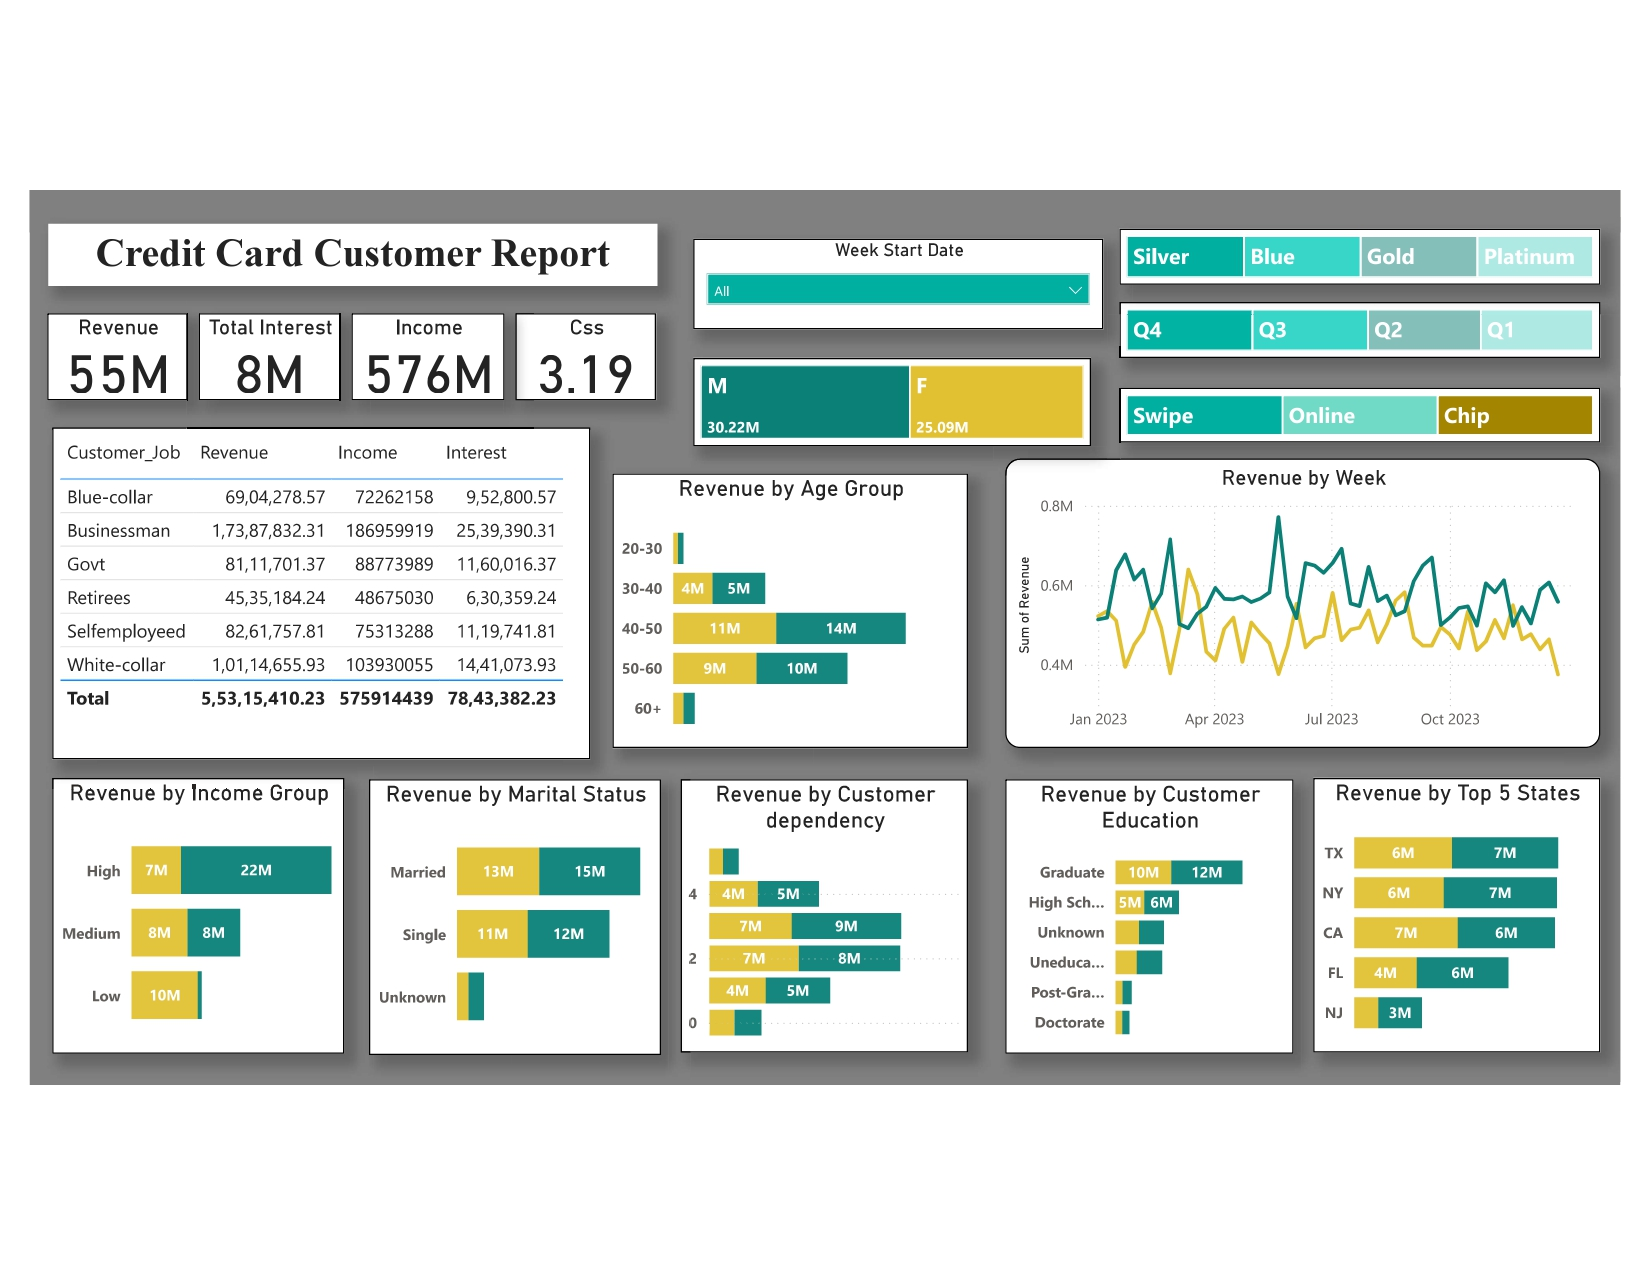

What the dashboard file says about the page in this screenshot:
{"tool":"powerbi","page":{"name":"credit card customer report","canvas":[1280,720],"ordinal":1},"visuals":[{"type":"textbox","box":[15,26.7,490,50],"z":0},{"type":"barChart","title":"Revenue by Income Group","fields":{"Y":["Sum(credit_card.Revenue)"],"Category":["customer.IncomeGroup"],"Series":["customer.Gender"]},"box":[18.1,472.9,235.3,222],"z":1000},{"type":"tableEx","fields":{"Values":["customer.Customer_Job","Sum(credit_card.Revenue)","Sum(customer.Income)","Sum(credit_card.Interest_Earned)"]},"box":[18.1,190.6,433.1,267.8],"z":2000},{"type":"card","title":"Revenue","fields":{"Values":["Sum(credit_card.Revenue)"]},"box":[14.5,98.9,112.2,70],"z":3000},{"type":"card","title":"Total Interest","fields":{"Values":["Sum(credit_card.Interest_Earned)"]},"box":[136.3,98.9,113.4,70],"z":4000},{"type":"card","title":"Css","fields":{"Values":["Avg(customer.Cust_Satisfaction_Score)"]},"box":[390.9,98.9,113.4,70],"z":5000},{"type":"card","title":"Income","fields":{"Values":["Sum(customer.Income)"]},"box":[259.4,98.9,123.1,70],"z":6000},{"type":"slicer","title":"Week Start Date","fields":{"Values":["credit_card.Week_Start_Date"]},"box":[534.5,38.6,329.4,73.6],"z":7000},{"type":"treemap","fields":{"Group":["credit_card.Qtr"],"Values":["Avg(credit_card.Client_Num)"]},"box":[877.1,90.5,387.3,44.6],"z":8000},{"type":"treemap","fields":{"Values":["Avg(credit_card.Client_Num)"],"Group":["credit_card.Use Chip"]},"box":[877.1,159.3,387.3,43.4],"z":9000},{"type":"treemap","fields":{"Values":["Avg(credit_card.Client_Num)"],"Group":["credit_card.Card_Category"]},"box":[877.1,31.4,387.3,44.6],"z":10000},{"type":"lineChart","title":"Revenue by Week","fields":{"Y":["Sum(credit_card.Revenue)"],"Series":["customer.Gender"],"Category":["credit_card.Week_Start_Date.Variation.Date Hierarchy.Year","credit_card.Week_Start_Date.Variation.Date Hierarchy.Month","credit_card.Week_Start_Date.Variation.Date Hierarchy.Day"]},"box":[785.4,216,479,232.8],"z":11000},{"type":"treemap","fields":{"Group":["customer.Gender"],"Values":["Sum(credit_card.Revenue)"]},"box":[534.5,135.1,319.7,71.2],"z":12000},{"type":"barChart","title":"Revenue by Age Group","fields":{"Y":["Sum(credit_card.Revenue)"],"Category":["customer.AgeGroup"],"Series":["customer.Gender"]},"box":[469.3,228,285.9,220.8],"z":13000},{"type":"barChart","title":"Revenue by Customer dependency","fields":{"Y":["Sum(credit_card.Revenue)"],"Category":["customer.Dependent_Count"],"Series":["customer.Gender"]},"box":[523.6,474.1,231.6,219.6],"z":14000},{"type":"barChart","title":"Revenue by Customer Education","fields":{"Y":["Sum(credit_card.Revenue)"],"Category":["customer.Education_Level"],"Series":["customer.Gender"]},"box":[785.4,474.1,231.6,220.8],"z":15000},{"type":"barChart","title":"Revenue by Top 5 States","fields":{"Y":["Sum(credit_card.Revenue)"],"Category":["customer.state_cd"],"Series":["customer.Gender"]},"box":[1032.7,472.9,231.6,220.8],"z":16000},{"type":"barChart","title":"Revenue by Marital Status","fields":{"Y":["Sum(credit_card.Revenue)"],"Category":["customer.Marital_Status"],"Series":["customer.Gender"]},"box":[272.7,474.1,235.3,222],"z":17000}]}

Visuals, with their boxes in screenshot pixels (x1, y1, x2, y2):
textbox: left=28, top=214, right=651, bottom=278
"Revenue by Income Group" barChart: left=32, top=782, right=331, bottom=1064
tableEx - customer.Customer_Job x Sum(credit_card.Revenue): left=32, top=423, right=582, bottom=763
"Revenue" card: left=27, top=306, right=170, bottom=395
"Total Interest" card: left=182, top=306, right=326, bottom=395
"Css" card: left=506, top=306, right=650, bottom=395
"Income" card: left=338, top=306, right=495, bottom=395
"Week Start Date" slicer: left=688, top=230, right=1107, bottom=323
treemap - credit_card.Qtr x Avg(credit_card.Client_Num): left=1124, top=296, right=1616, bottom=352
treemap - Avg(credit_card.Client_Num) x credit_card.Use Chip: left=1124, top=383, right=1616, bottom=438
treemap - Avg(credit_card.Client_Num) x credit_card.Card_Category: left=1124, top=220, right=1616, bottom=277
"Revenue by Week" lineChart: left=1007, top=455, right=1616, bottom=751
treemap - customer.Gender x Sum(credit_card.Revenue): left=688, top=352, right=1094, bottom=443
"Revenue by Age Group" barChart: left=605, top=470, right=969, bottom=751
"Revenue by Customer dependency" barChart: left=674, top=783, right=969, bottom=1062
"Revenue by Customer Education" barChart: left=1007, top=783, right=1301, bottom=1064
"Revenue by Top 5 States" barChart: left=1321, top=782, right=1616, bottom=1062
"Revenue by Marital Status" barChart: left=355, top=783, right=654, bottom=1065
